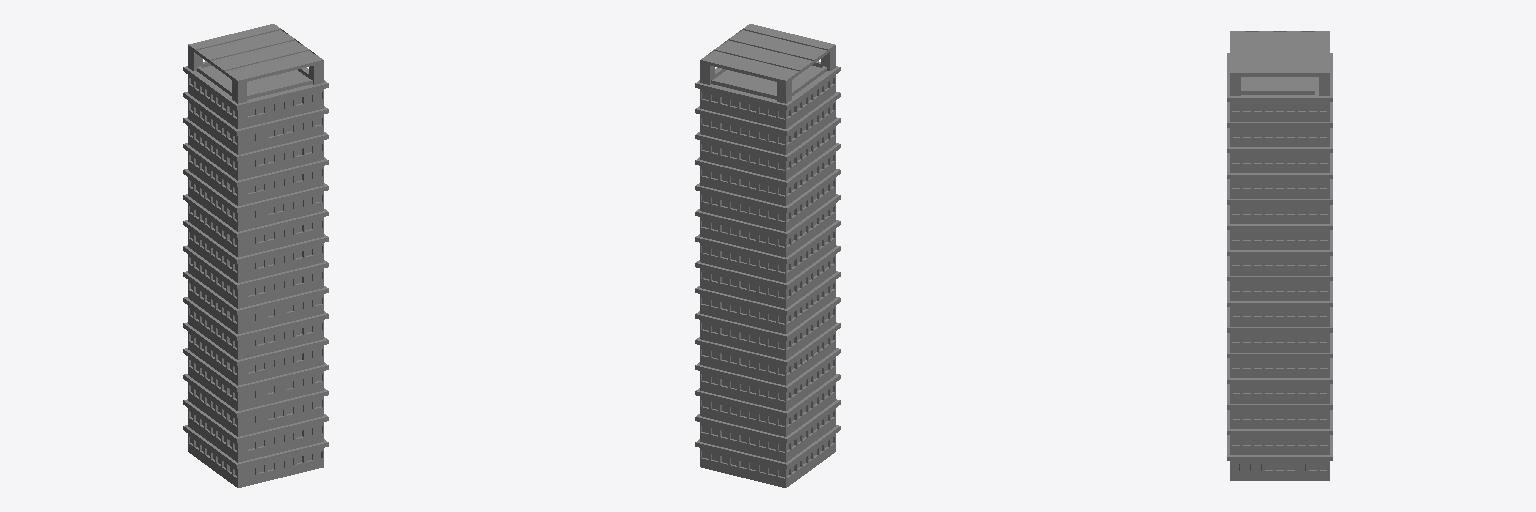
File: torre_helicoptero_dos.obj
3 views of the same model, side by side, from view 1: azimuth 30°, elevation 25°; view 2: azimuth 150°, elevation 25°; view 3: azimuth 270°, elevation 25° (orthographic).
Visible parts, largest first — view 1: Plane_016, Object016, Plane_010; view 2: Plane_016, Plane_010, Object016; view 3: Plane_016, Plane_010, Object016.
Part boxes in pixels (bbox=[...]): Plane_016: bbox=[183, 48, 328, 487]; Object016: bbox=[190, 78, 321, 477]; Plane_010: bbox=[188, 24, 323, 83]; Plane_016: bbox=[695, 48, 840, 487]; Plane_010: bbox=[700, 24, 835, 83]; Object016: bbox=[703, 78, 833, 476]; Plane_016: bbox=[1227, 53, 1332, 480]; Plane_010: bbox=[1230, 31, 1329, 76]; Object016: bbox=[1232, 105, 1326, 470].
Bounding box in the file's own units: 14.19 × 60.03 × 14.19.